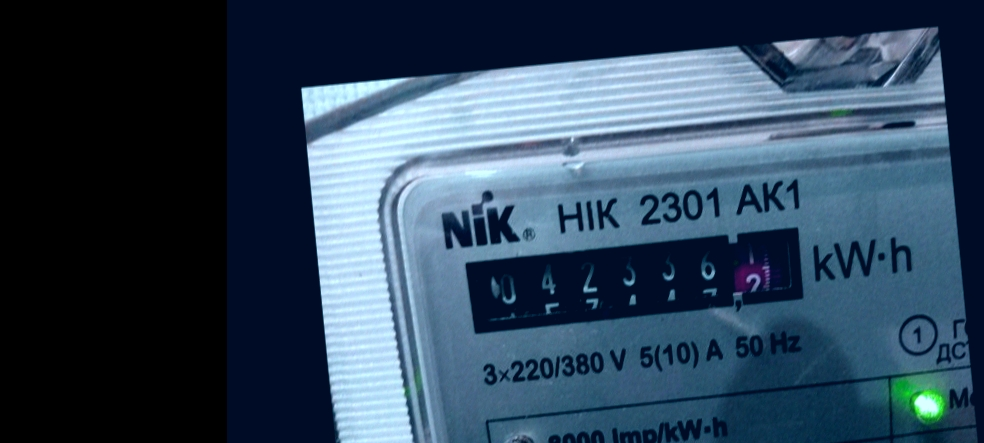0: (497, 270, 520, 306)
1: (743, 238, 759, 268)
2: (577, 258, 600, 296), (743, 271, 764, 294)
3: (655, 246, 679, 284), (618, 250, 640, 290)
4: (537, 259, 559, 298)
6: (694, 246, 720, 282)
screen: (457, 217, 816, 343)
